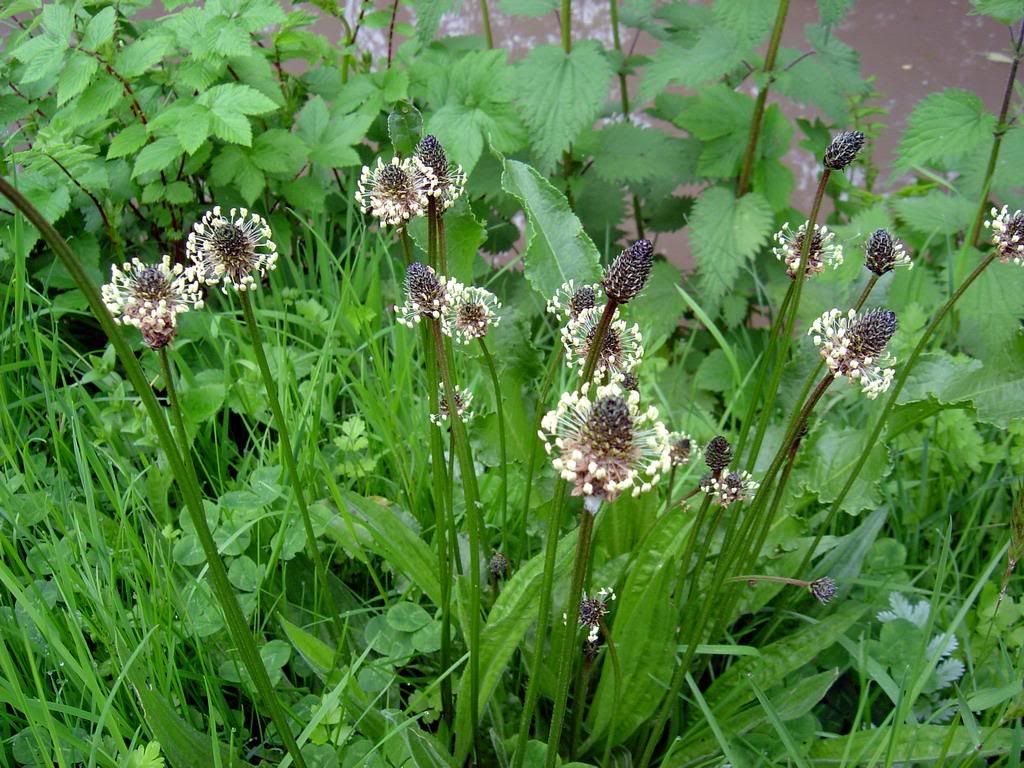buckhorn plantain: (108, 171, 870, 768)
